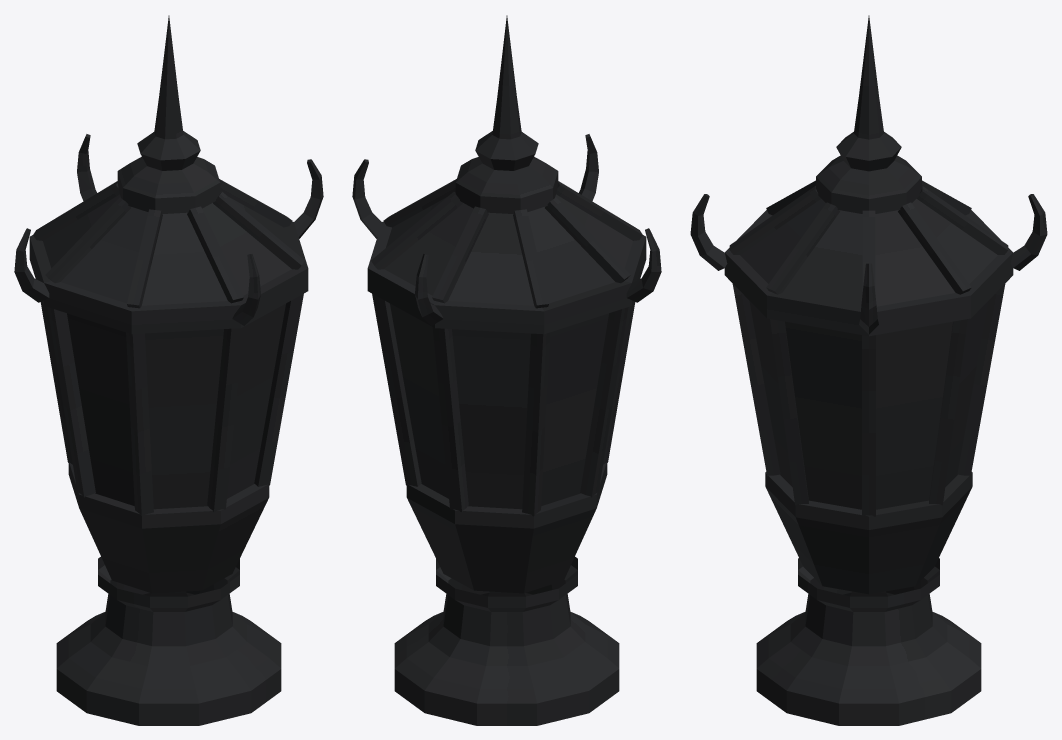
File: decolight_lametropolitan.obj
3 views of the same model, side by side, from view 1: azimuth 30°, elevation 25°; view 2: azimuth 150°, elevation 25°; view 3: azimuth 270°, elevation 25° (orthographic).
Visible parts, largest first — view 1: decolight_lametropolitan; view 2: decolight_lametropolitan; view 3: decolight_lametropolitan.
Part boxes in pixels (box(x1,y1,x2,y2)): decolight_lametropolitan: box(14, 15, 323, 725); decolight_lametropolitan: box(352, 15, 661, 725); decolight_lametropolitan: box(690, 15, 1047, 725).
Bounding box in the file's own units: 0.882 × 1.81 × 0.882.
